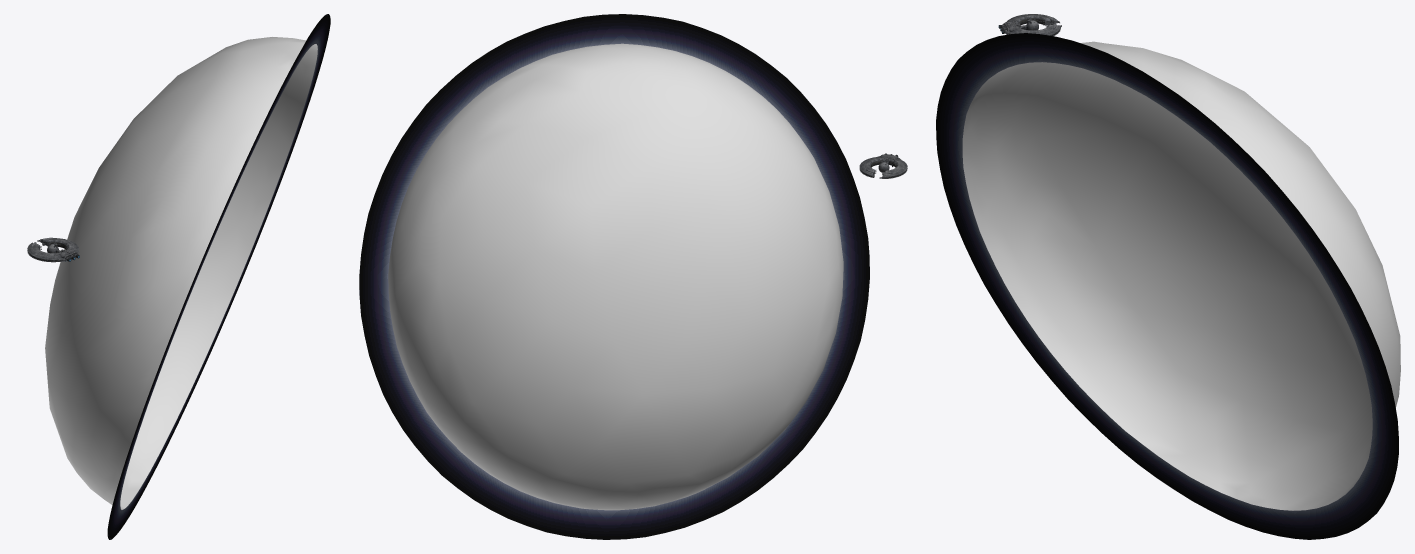
The model's file is env_space_kamino_01_pre.glb.
3 renders of one model, left to right at view 1: azimuth 30°, elevation 25°; view 2: azimuth 150°, elevation 25°; view 3: azimuth 270°, elevation 25°, orthographic. The views are drawn at different scales.
Parts seen in each view (by area): view 1: polySurface1, unit_ship_tradefederation_battleship_mesh; view 2: polySurface1, unit_ship_tradefederation_battleship_mesh; view 3: polySurface1, unit_ship_tradefederation_battleship_mesh.
Boxes of the visible parts, left/top/right/bottom form: polySurface1: left=45, top=14, right=330, bottom=539; unit_ship_tradefederation_battleship_mesh: left=27, top=237, right=79, bottom=262; polySurface1: left=359, top=14, right=869, bottom=539; unit_ship_tradefederation_battleship_mesh: left=859, top=153, right=907, bottom=178; polySurface1: left=936, top=33, right=1400, bottom=539; unit_ship_tradefederation_battleship_mesh: left=998, top=14, right=1061, bottom=36.
Size of the model in its own units: 991 by 1077 by 853.
7 materials, 6 textured.
